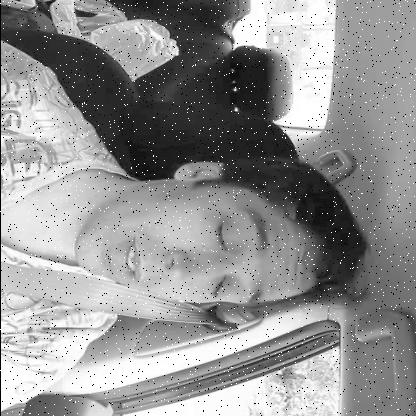seatbelt: (0, 124, 388, 322)
